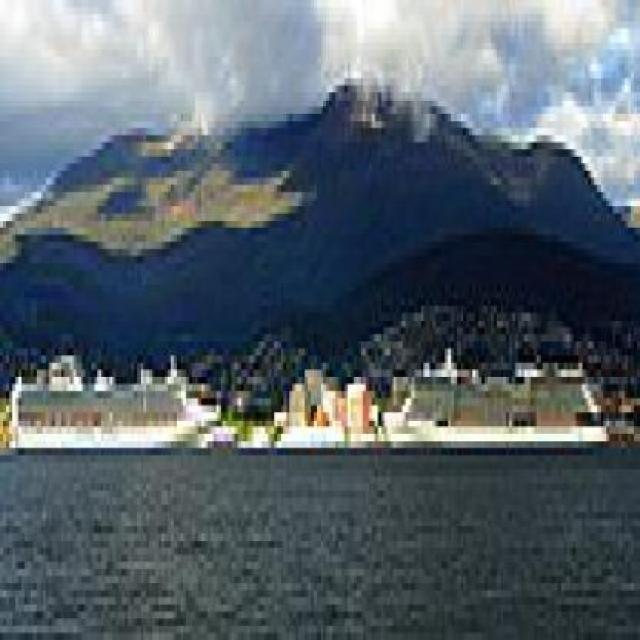cruise: (1, 336, 230, 477)
